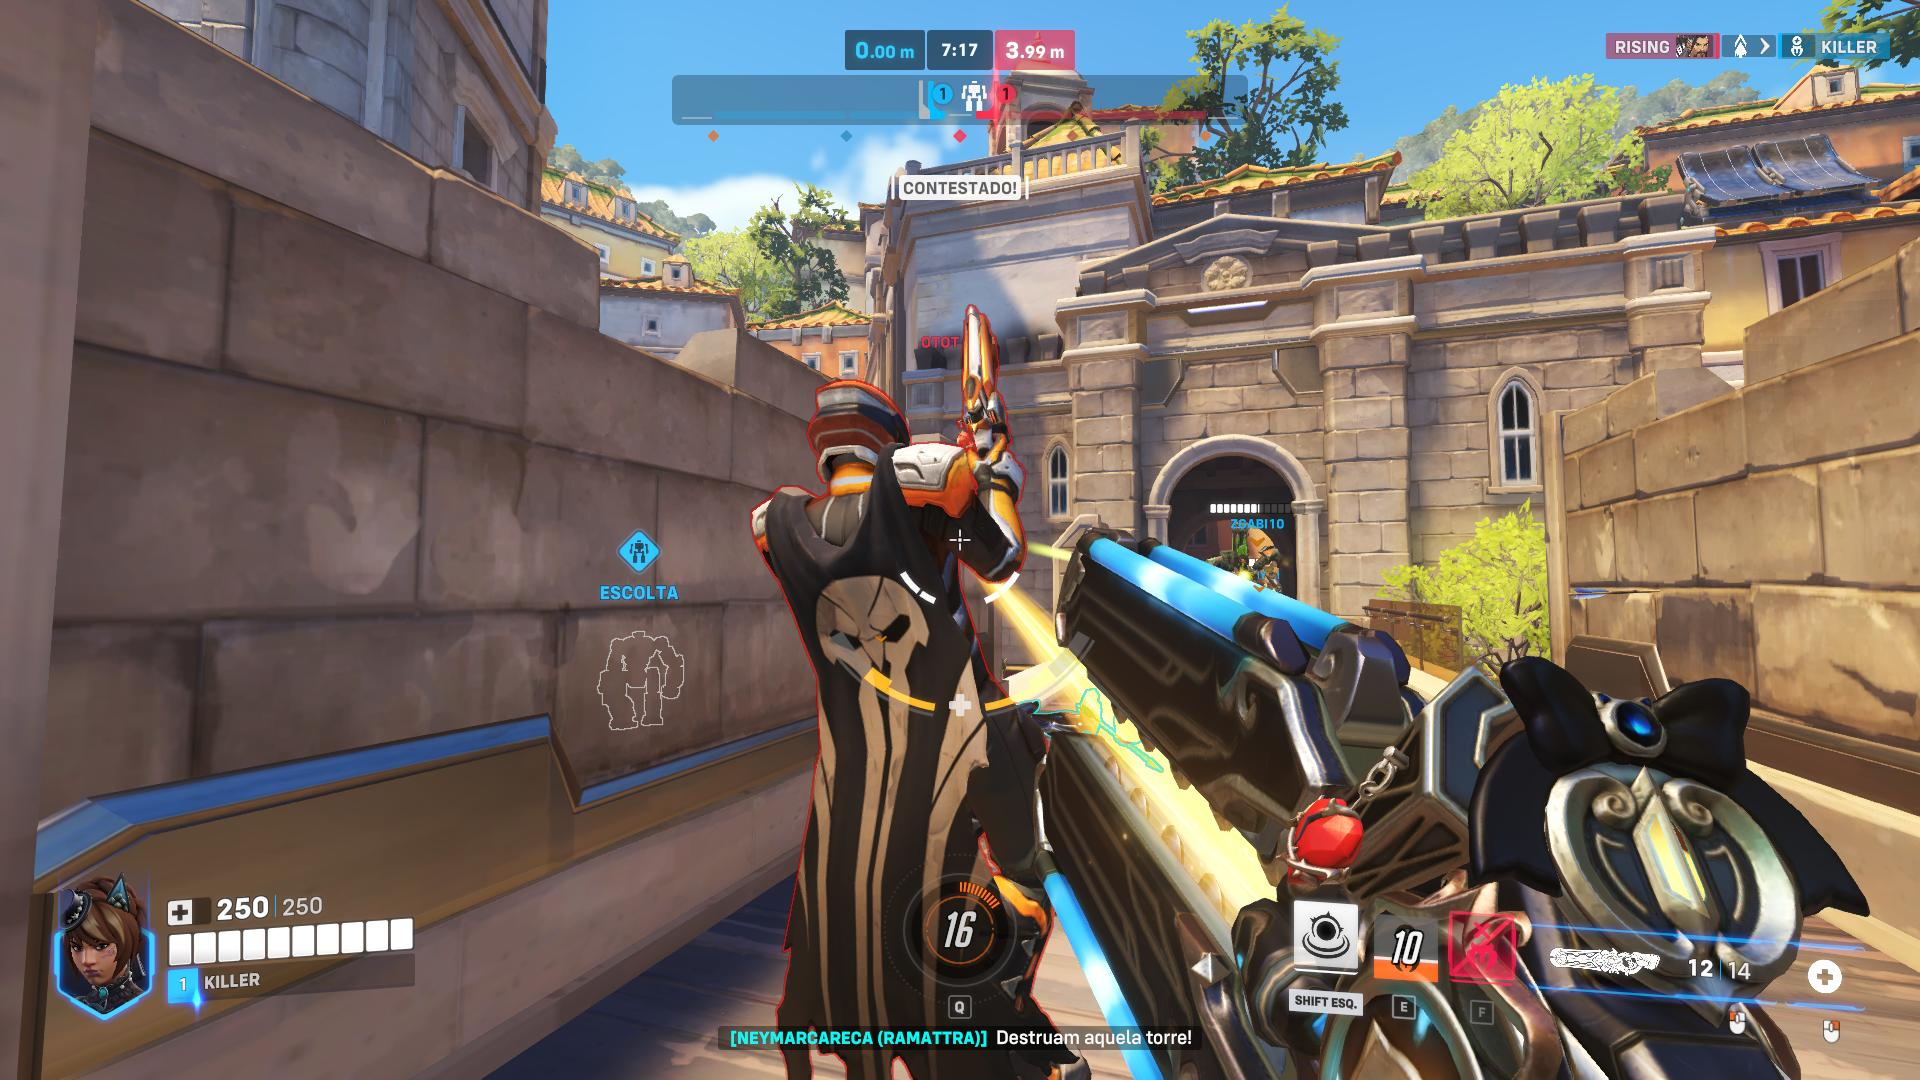enemy: (749, 382, 1060, 1026)
